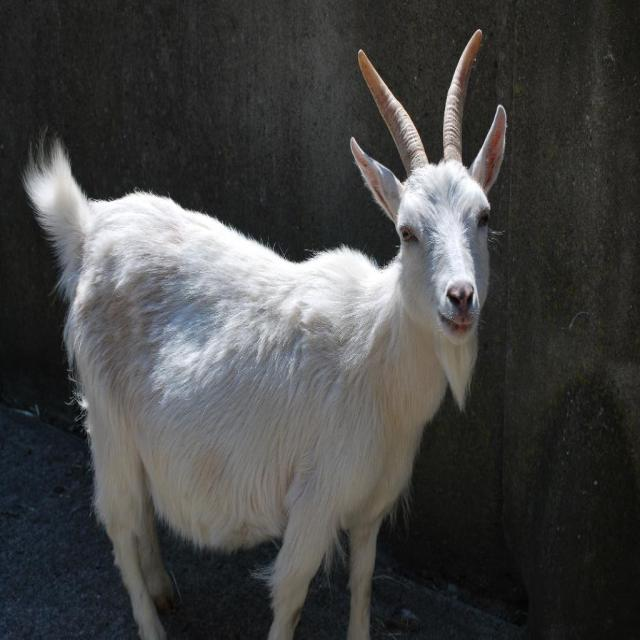Goat: (21, 25, 509, 640)
